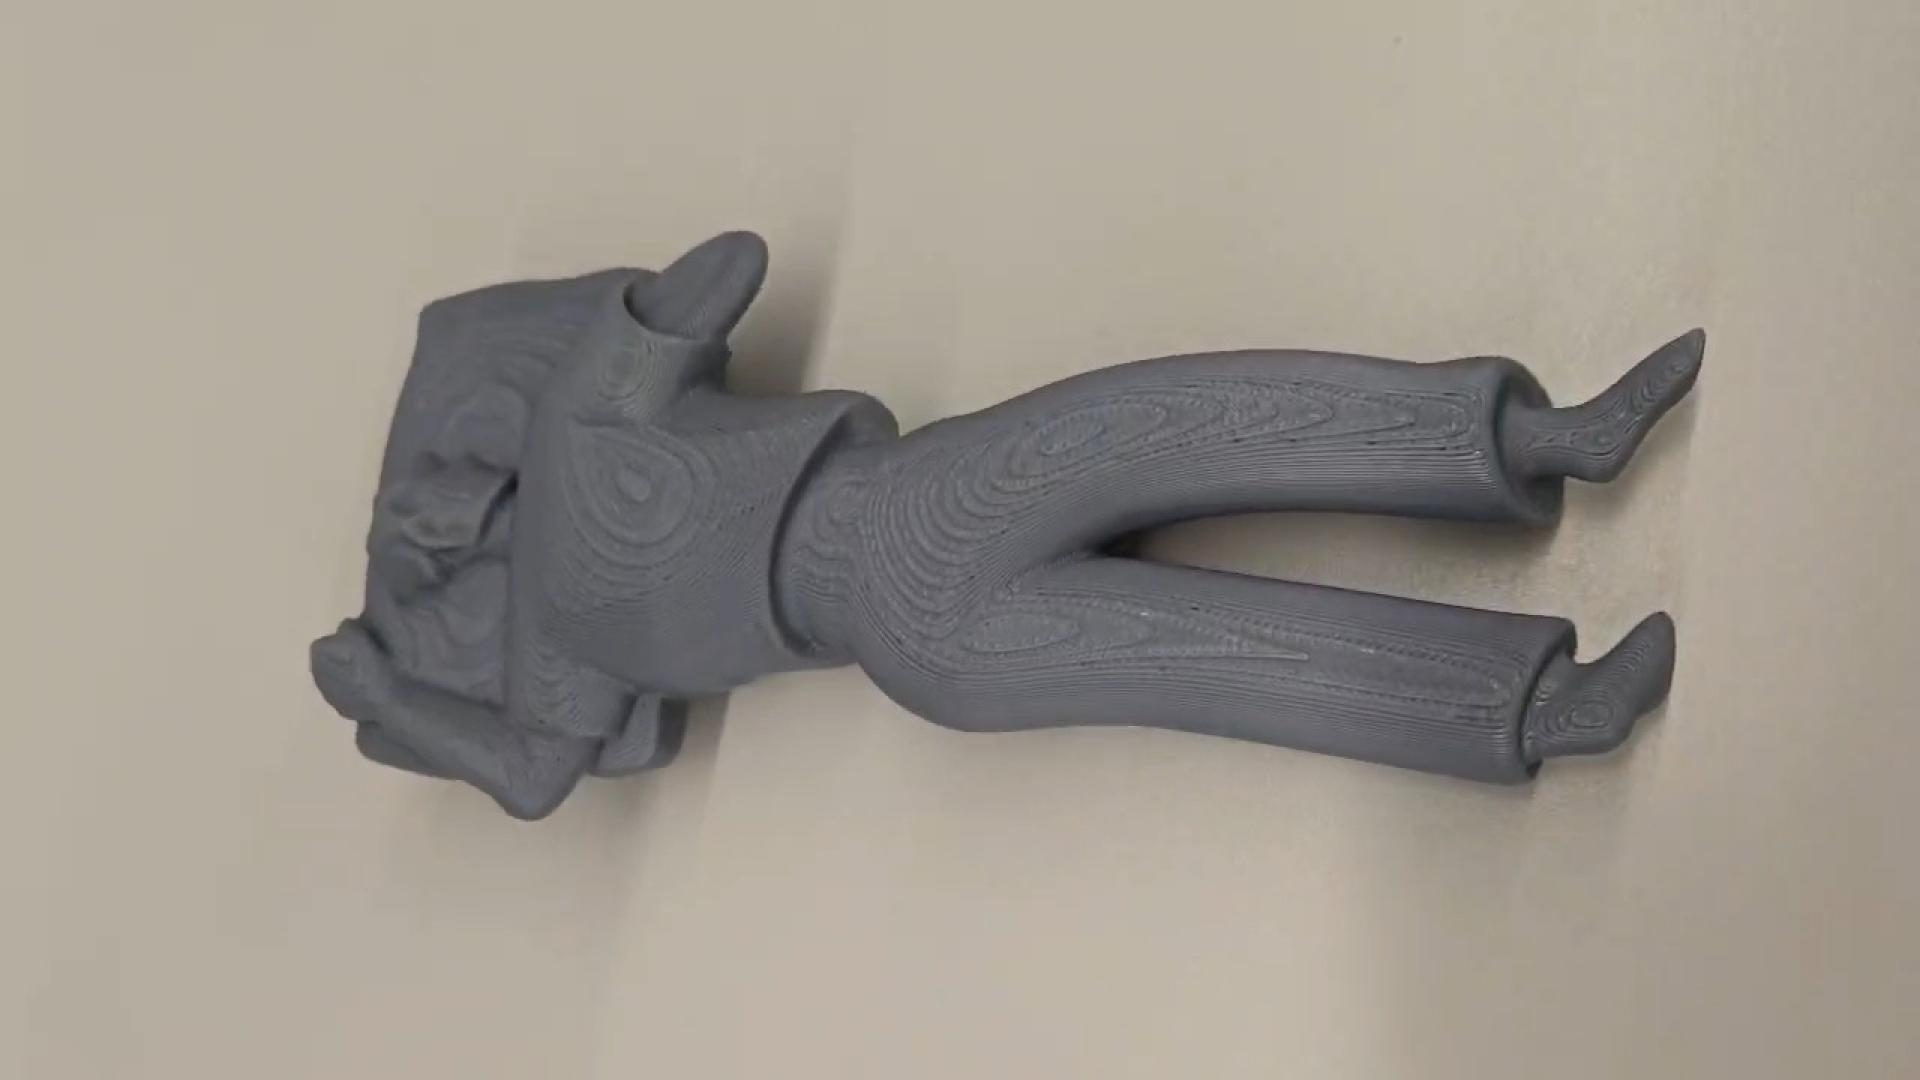Bad-style: (305, 225, 1713, 829)
